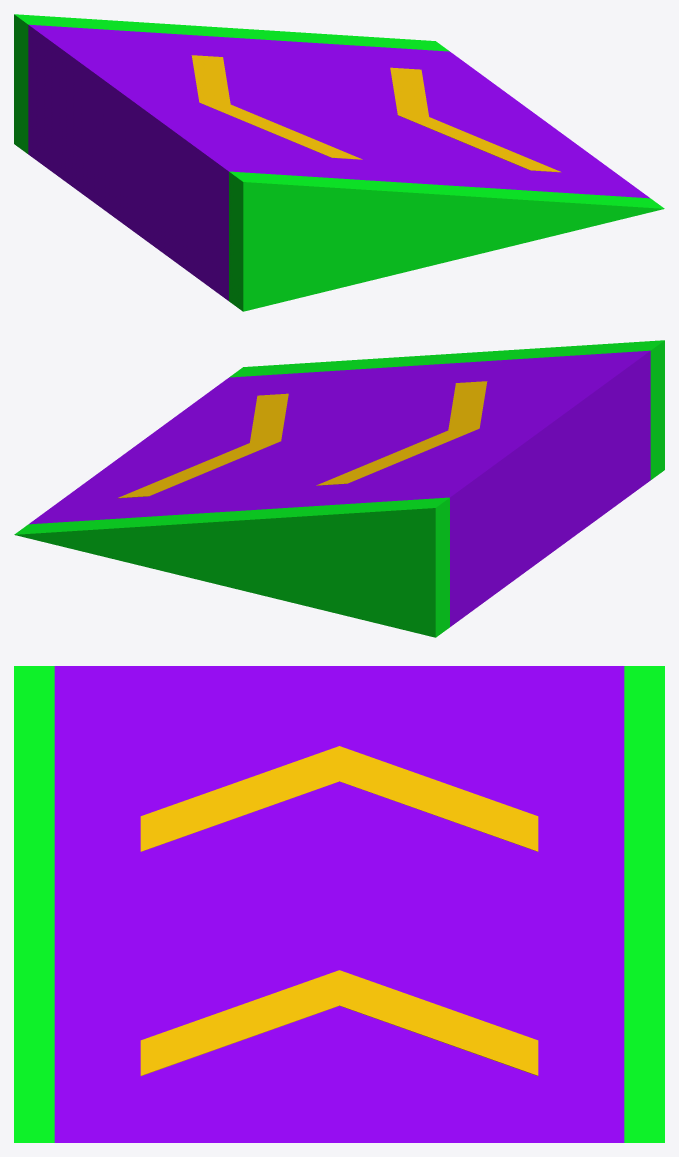
The model's file is road_skew.fbx.
The picture shows the model from 3 angles, top to bottom: view 1: azimuth 30°, elevation 25°; view 2: azimuth 150°, elevation 25°; view 3: azimuth 270°, elevation 25°; orthographic projection. The views are drawn at different scales.
Parts seen in each view (by area): view 1: road_skew; view 2: road_skew; view 3: road_skew.
Part boxes in pixels (<box>): road_skew: <box>14,14,664,311</box>; road_skew: <box>14,340,664,637</box>; road_skew: <box>14,666,664,1142</box>.
Size of the model in its own units: 170 by 52.88 by 160.
